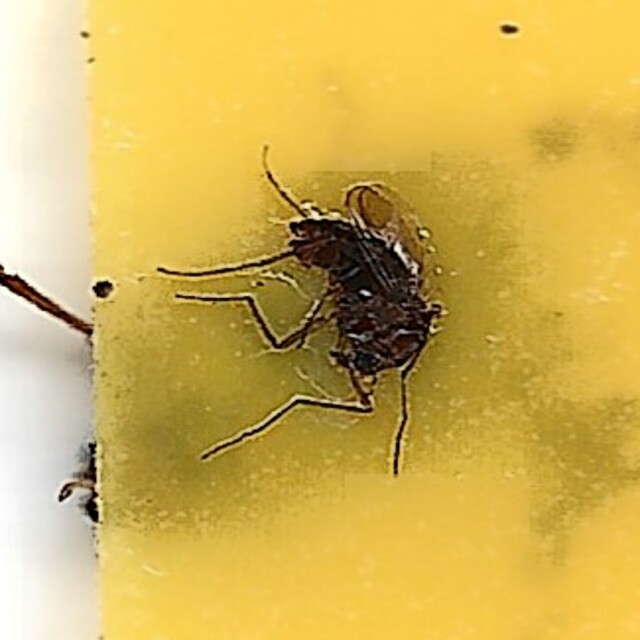Nematocera: (197, 165, 443, 475)
